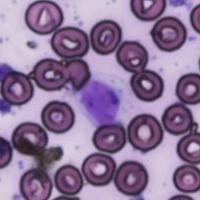L: (77, 76, 125, 127)
